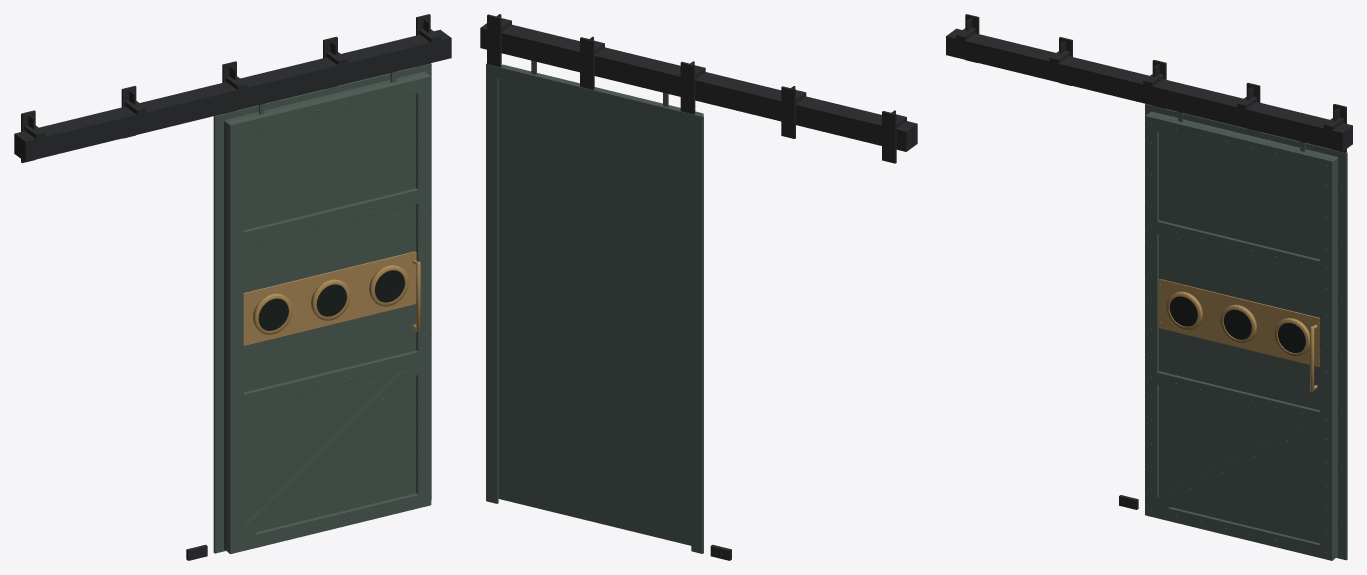
File: spectral_seal_door.glb
3 views of the same model, side by side, from view 1: azimuth 30°, elevation 25°; view 2: azimuth 150°, elevation 25°; view 3: azimuth 330°, elevation 25° (orthographic). The views are drawn at different scales.
Parts seen in each view (by area): view 1: IA_camp_door, door_frame, receptor_1, receptor_2, receptor_0; view 2: IA_camp_door, door_frame; view 3: IA_camp_door, door_frame, receptor_0, receptor_1, receptor_2.
Boxes of the visible parts, <box> form: IA_camp_door: <box>224,71,431,554</box>; door_frame: <box>14,14,451,560</box>; receptor_1: <box>316,284,346,316</box>; receptor_2: <box>374,270,404,302</box>; receptor_0: <box>258,298,288,330</box>; IA_camp_door: <box>498,60,703,545</box>; door_frame: <box>480,14,917,560</box>; IA_camp_door: <box>1145,111,1337,560</box>; door_frame: <box>946,14,1352,560</box>; receptor_0: <box>1169,296,1197,326</box>; receptor_1: <box>1223,309,1251,339</box>; receptor_2: <box>1278,323,1305,352</box>.
Size of the model in its own units: 2.2 by 2.4 by 0.1315.
